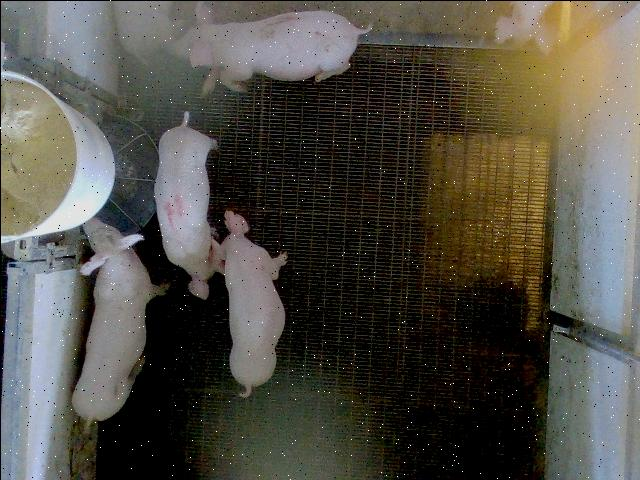pig-1: (172, 1, 370, 92)
pig-4: (154, 112, 220, 299)
